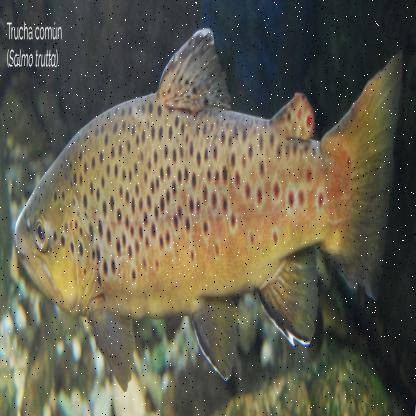fish: (14, 28, 409, 378)
